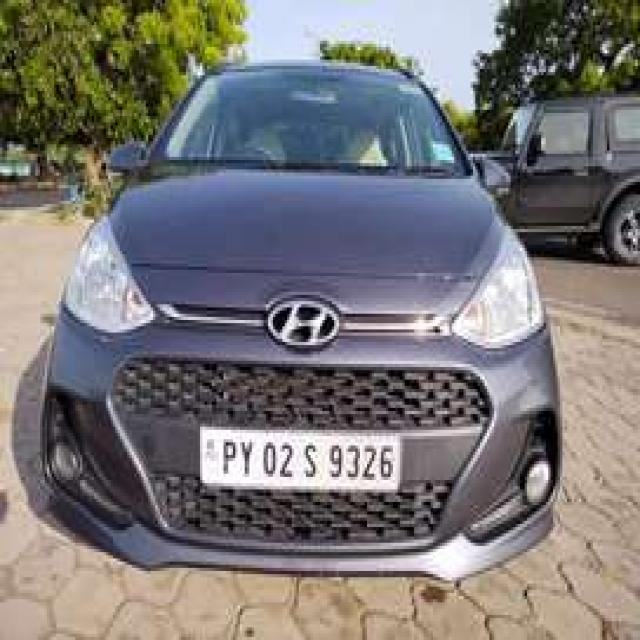Plate: (199, 422, 399, 488)
